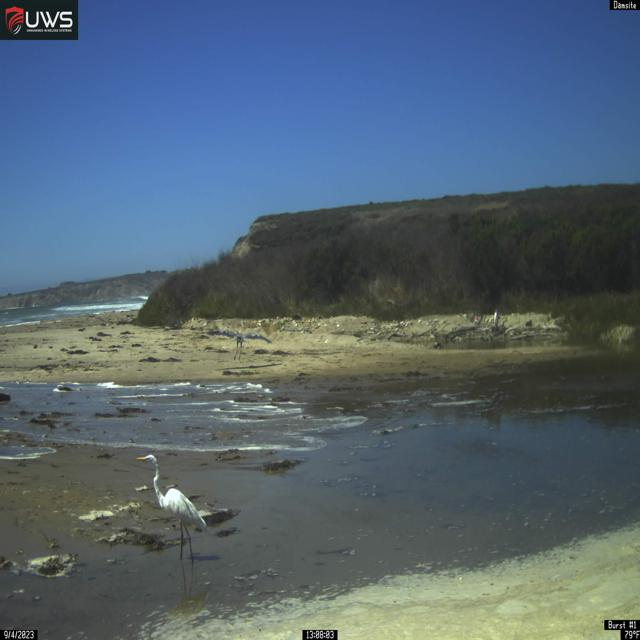bird: (135, 453, 208, 569)
